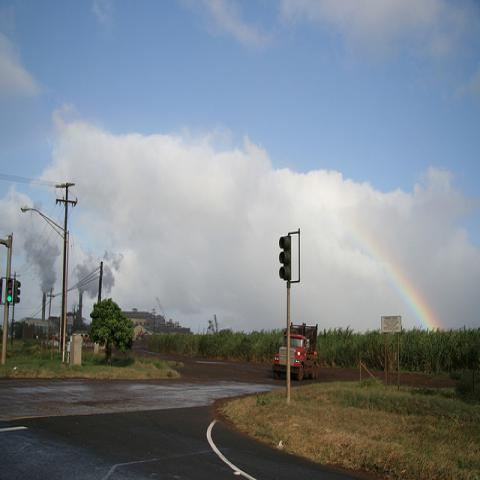truck: (273, 322, 320, 381)
